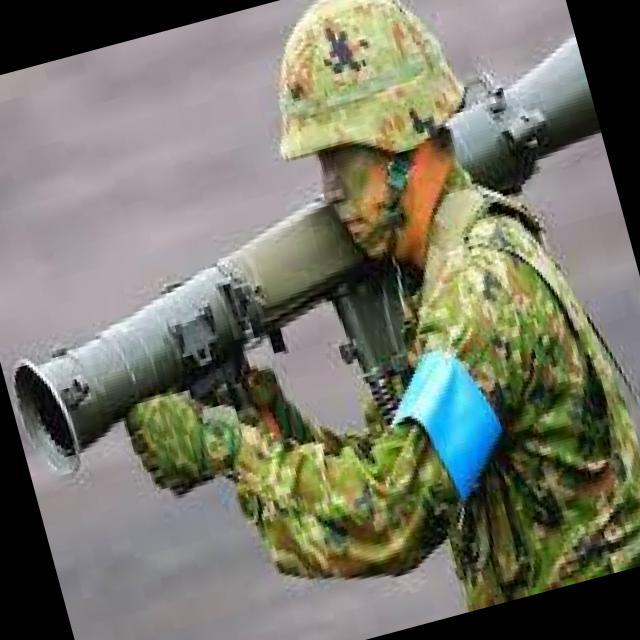rocket: (0, 189, 388, 481)
